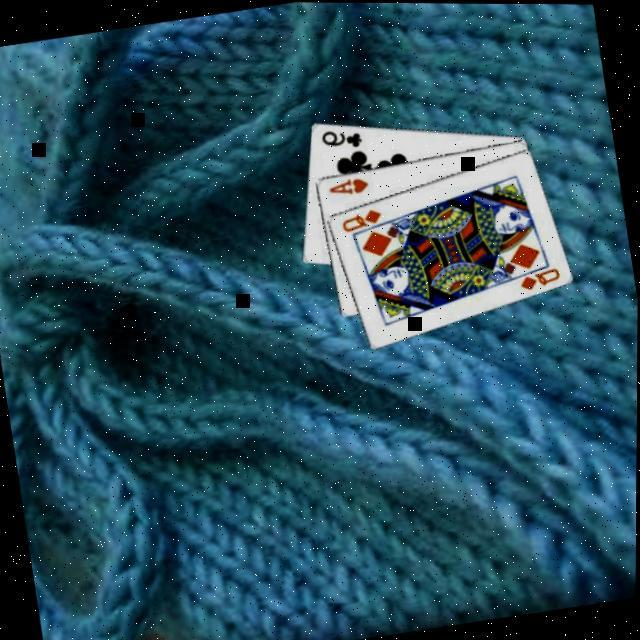9C: (314, 121, 364, 154)
AH: (324, 171, 371, 200)
QD: (334, 203, 384, 234), (513, 262, 562, 292)
